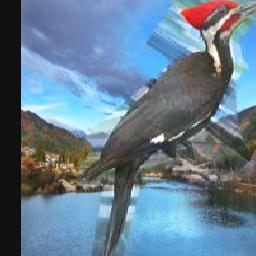Woodpecker: (79, 0, 256, 256)
